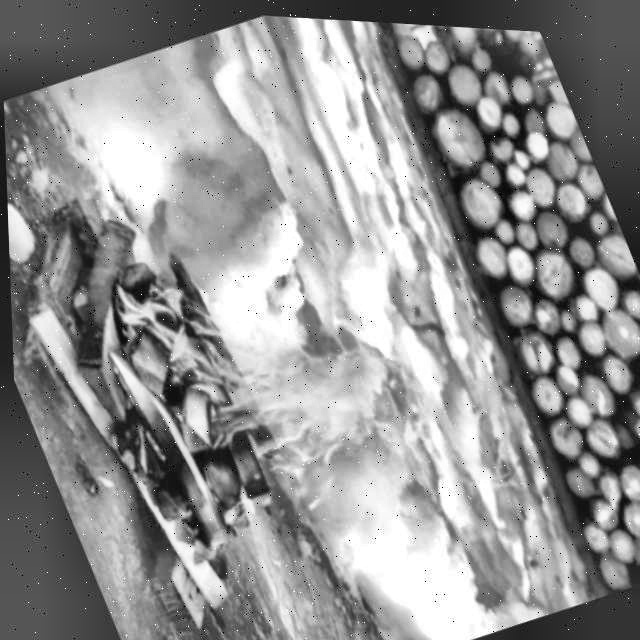Fire: (93, 168, 536, 598)
